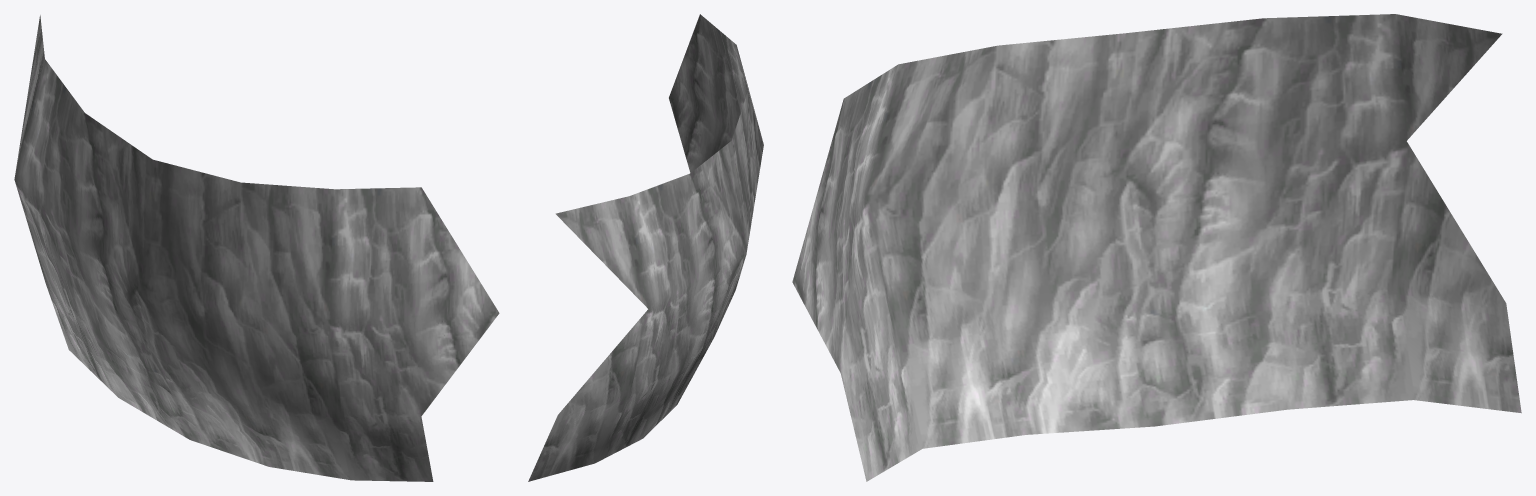
The model's file is SWORDLIGHT20_PS-AREA03_82.fbx.
3 renders of one model, left to right at view 1: azimuth 30°, elevation 25°; view 2: azimuth 150°, elevation 25°; view 3: azimuth 270°, elevation 25°, orthographic. The views are drawn at different scales.
Parts seen in each view (by area): view 1: SWORDLIGHT20_PS-AREA03_82; view 2: SWORDLIGHT20_PS-AREA03_82; view 3: SWORDLIGHT20_PS-AREA03_82.
Boxes of the visible parts, left/top/right/bottom form: SWORDLIGHT20_PS-AREA03_82: left=14, top=15, right=499, bottom=481; SWORDLIGHT20_PS-AREA03_82: left=528, top=14, right=763, bottom=481; SWORDLIGHT20_PS-AREA03_82: left=792, top=14, right=1521, bottom=481.
Size of the model in its own units: 51113 by 68076 by 115566.
Materials: 1 (1 with a texture image).
